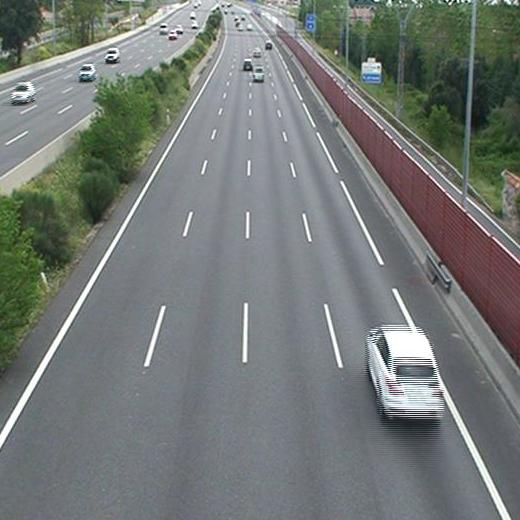car: (367, 327, 443, 416), (243, 58, 255, 70)
van: (253, 65, 265, 79)
